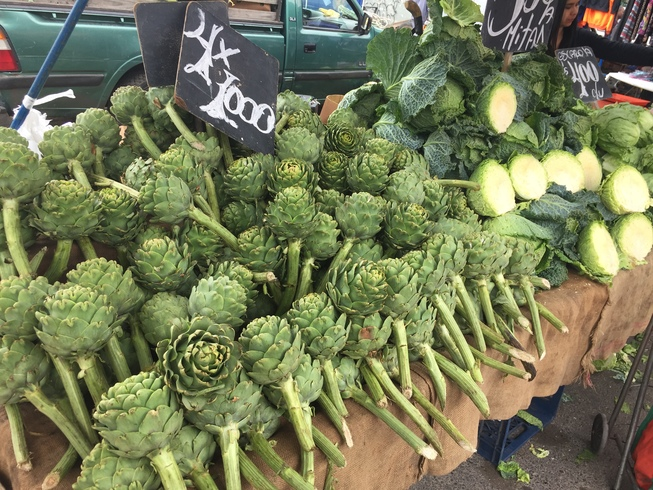precio: (165, 3, 294, 168), (470, 1, 561, 62), (550, 38, 618, 110)
